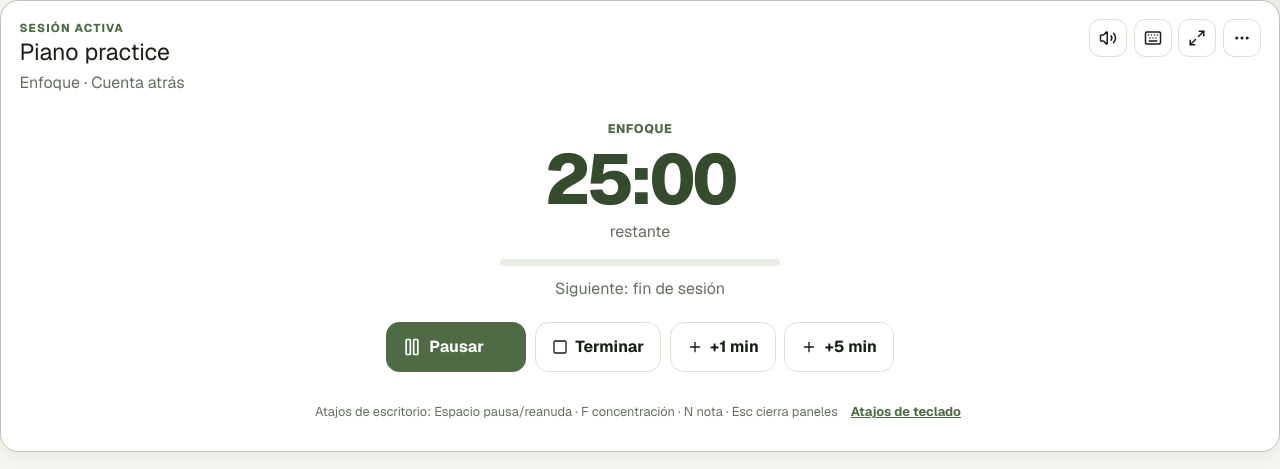
it: Focus active session UI › opens the secondary menu for cancel and note actions
Click the button named "Más acciones" at {"x": 1242, "y": 38}, box [1223,19,1261,57]
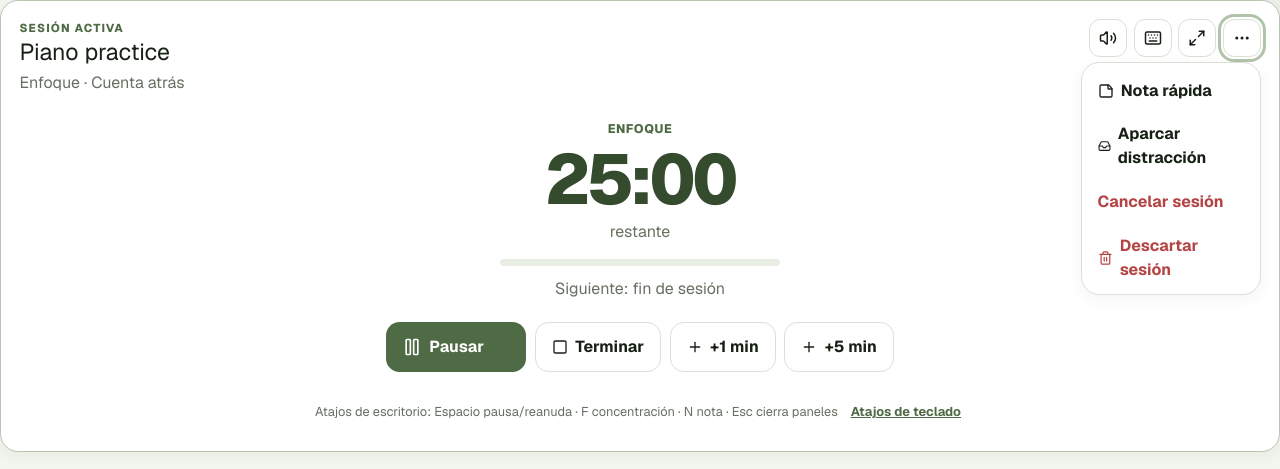
Now the menu item "Nota rápida" is shown, box [1087,69,1254,113]
Now the menu item "Cancelar sesión" is shown, box [1087,180,1254,224]
